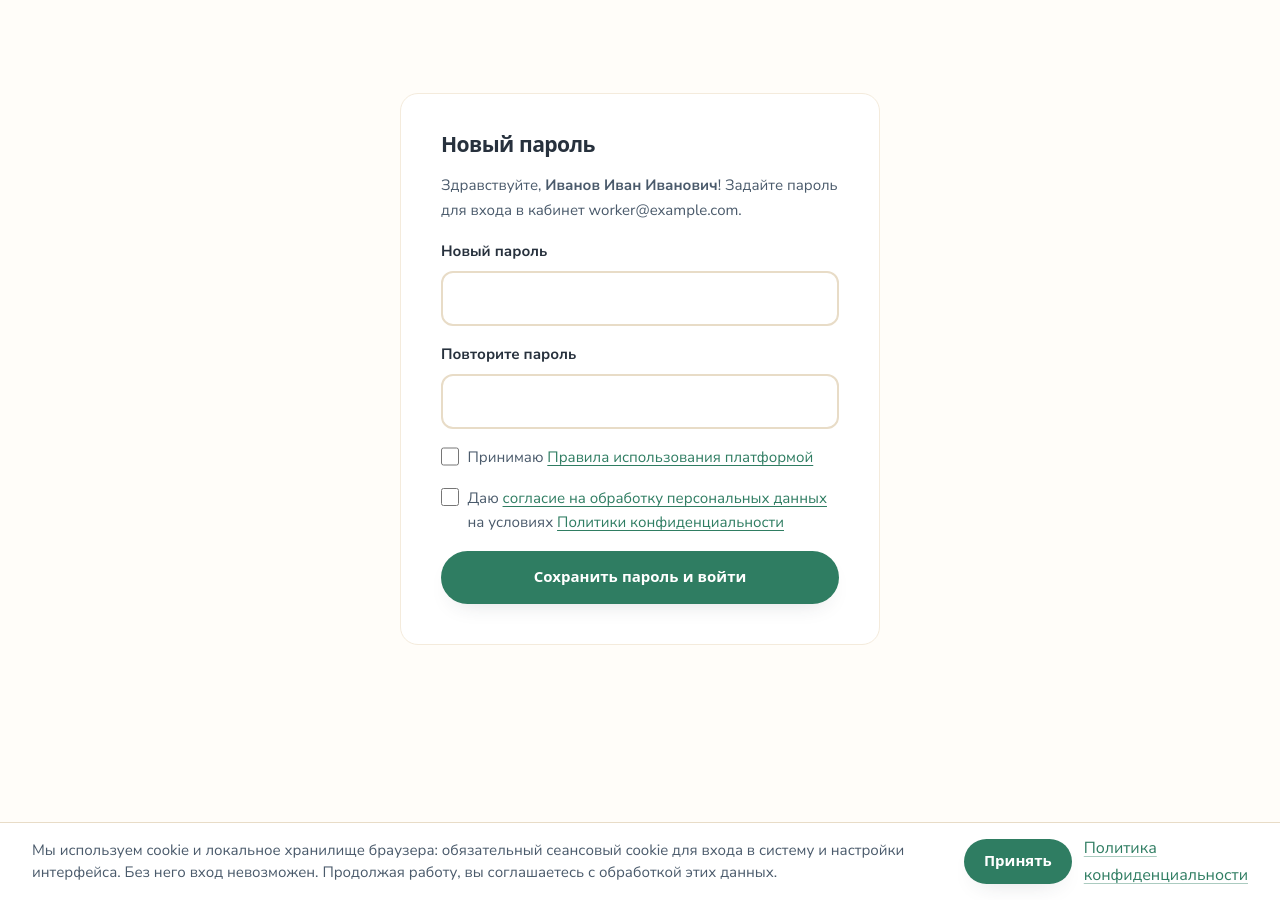
Test: экран активации по ссылке из письма › ругается на короткий пароль и на несовпадение
The width and height of the screenshot is (1280, 900).
Type "short" into the password field with test id "activate-password" at [640, 298], box [441,271,839,326]
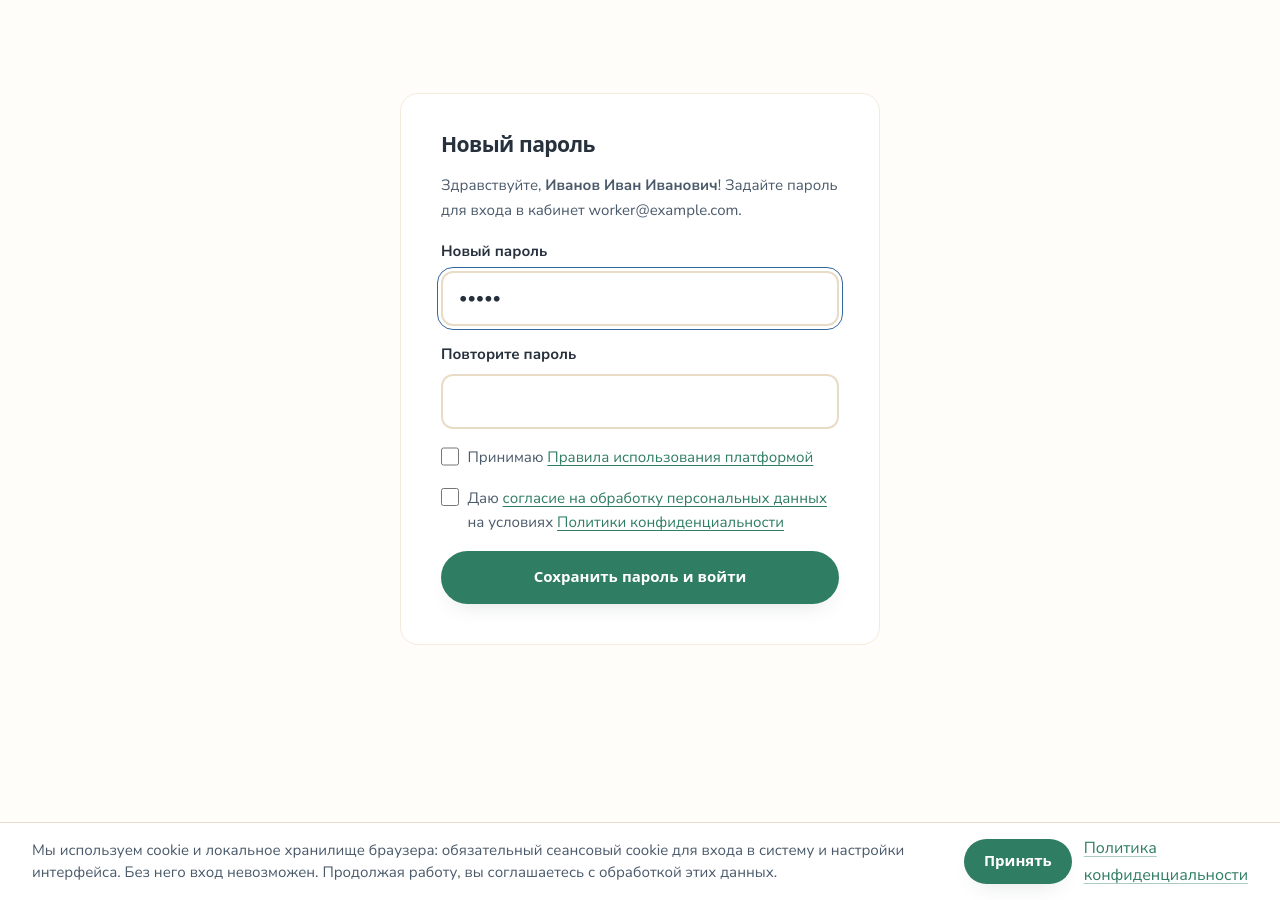
Type "short" into the password field with test id "activate-password-confirm" at [640, 402], box [441,374,839,429]
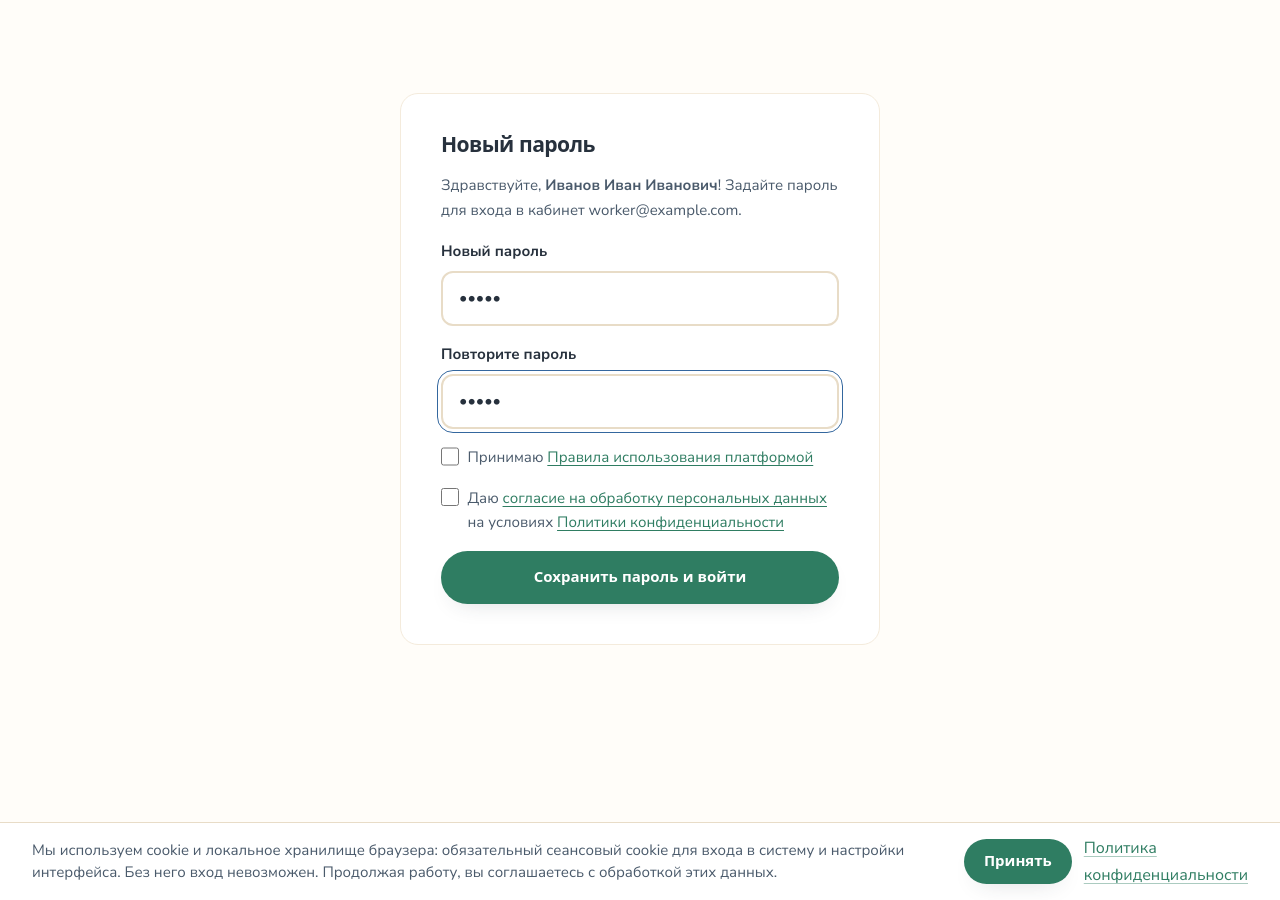
Click the button with test id "activate-submit" at [640, 578], box [441,551,839,604]
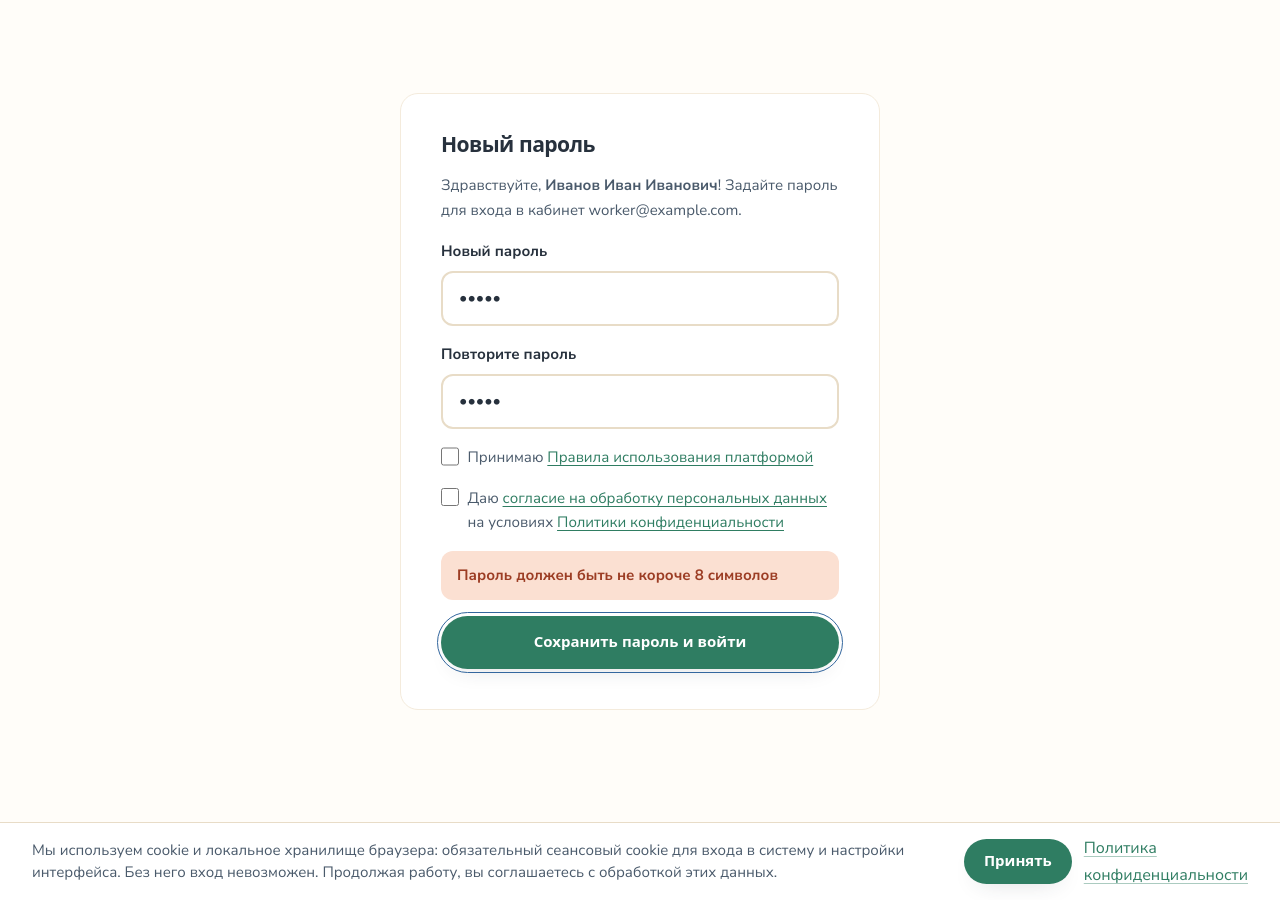
Now the message with test id "activate-error" shows "не короче 8 символов", box [457,565,778,585]
Type "new-password-123" into the password field with test id "activate-password" at [640, 298], box [441,271,839,326]
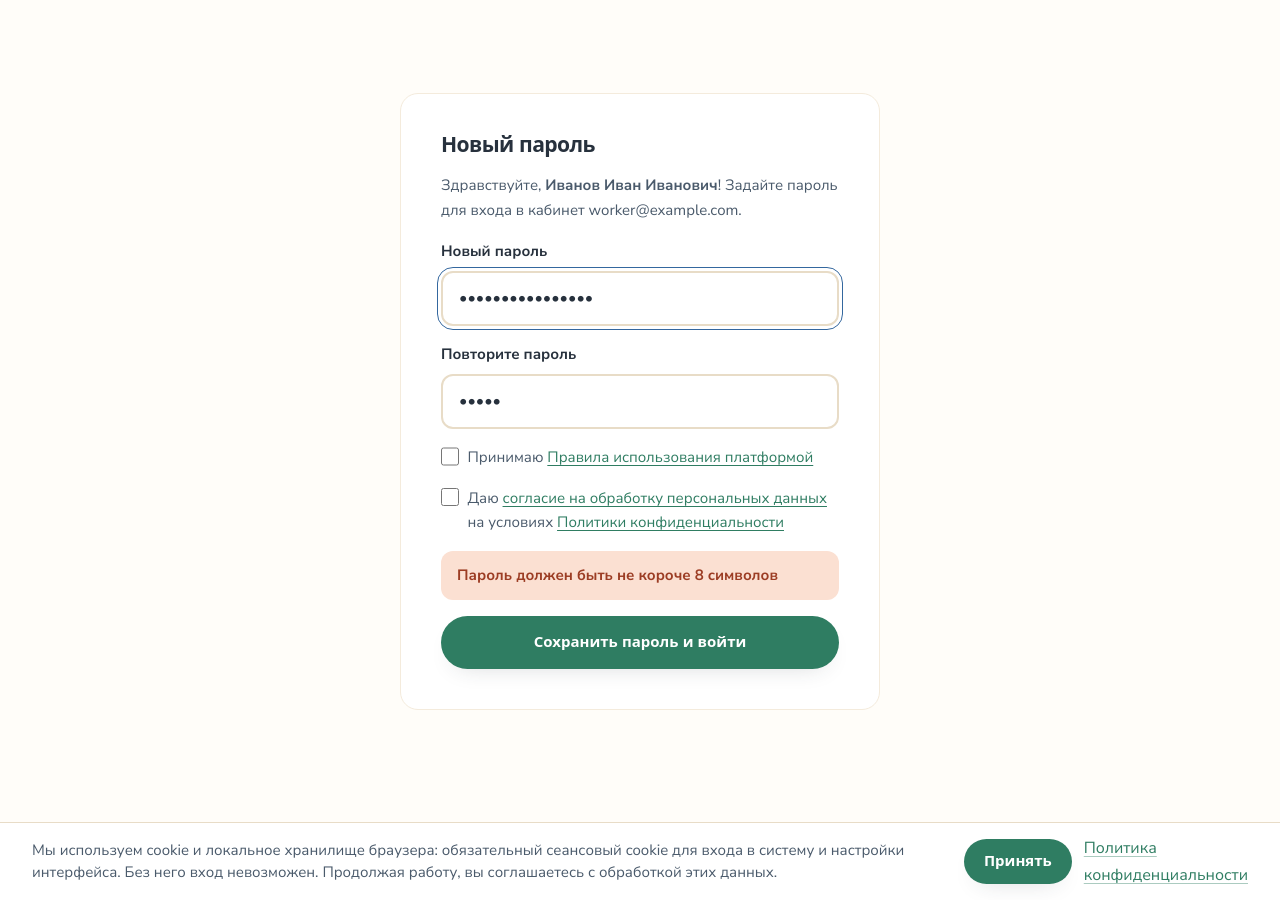
Type "another-password-123" into the password field with test id "activate-password-confirm" at [640, 402], box [441,374,839,429]
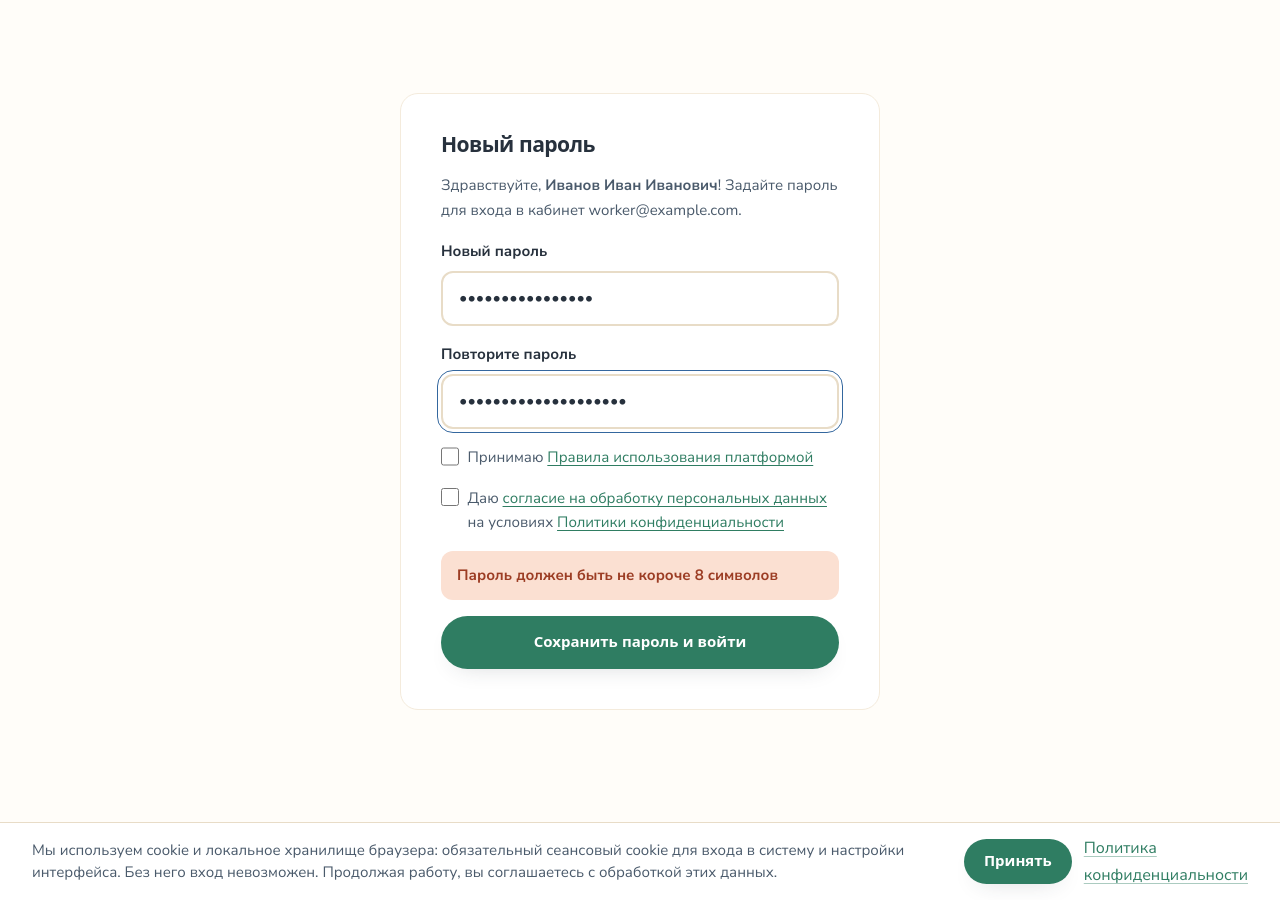
Click the button with test id "activate-submit" at [640, 642], box [441,616,839,669]
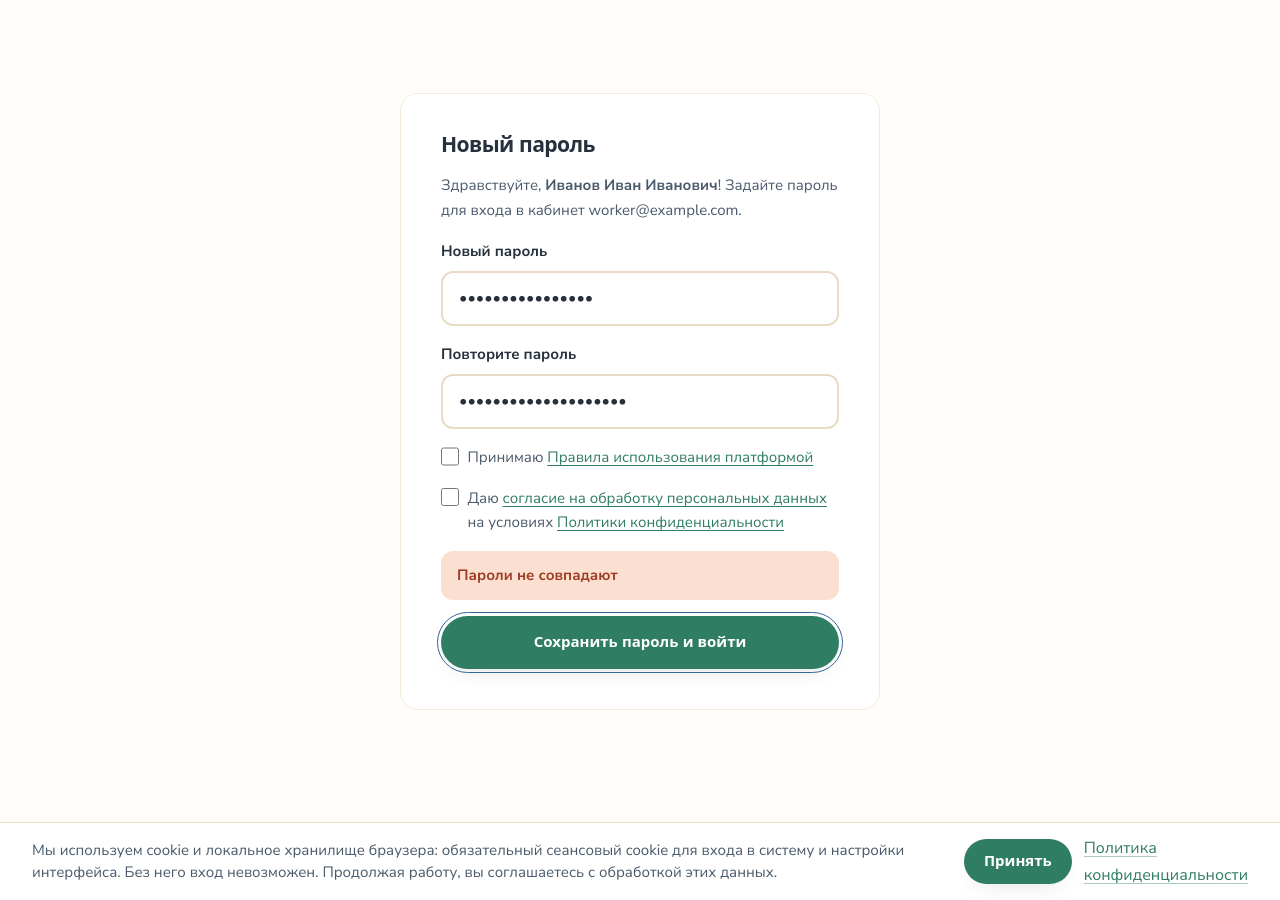
Now the message with test id "activate-error" shows "не совпадают", box [457,565,618,585]
